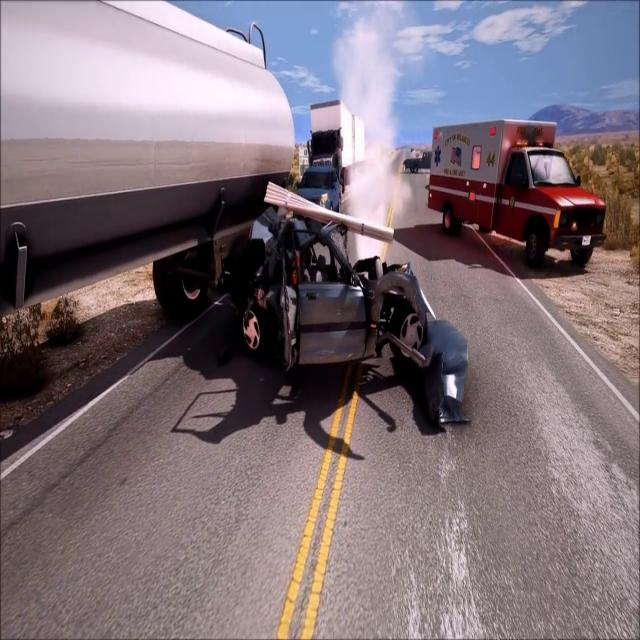accident: (114, 134, 472, 436)
